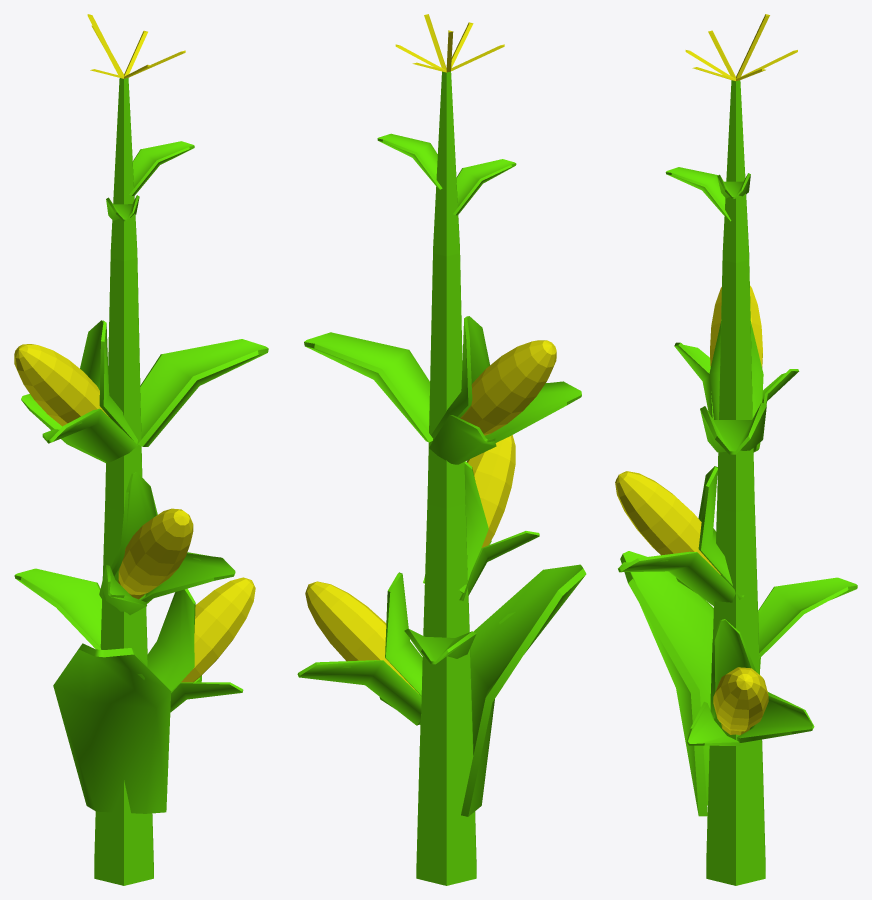
File: Corn_Crop_Model.fbx
The picture shows the model from 3 angles, left to right: view 1: azimuth 30°, elevation 25°; view 2: azimuth 150°, elevation 25°; view 3: azimuth 270°, elevation 25°; orthographic projection.
Parts seen in each view (by area): view 1: Corn_Crop_model; view 2: Corn_Crop_model; view 3: Corn_Crop_model.
Part boxes in pixels (left/top/right/bottom): Corn_Crop_model: left=14, top=14, right=268, bottom=885; Corn_Crop_model: left=297, top=14, right=586, bottom=885; Corn_Crop_model: left=615, top=14, right=857, bottom=885.
Bounding box in the file's own units: 0.7638 × 2.48 × 0.6449.
